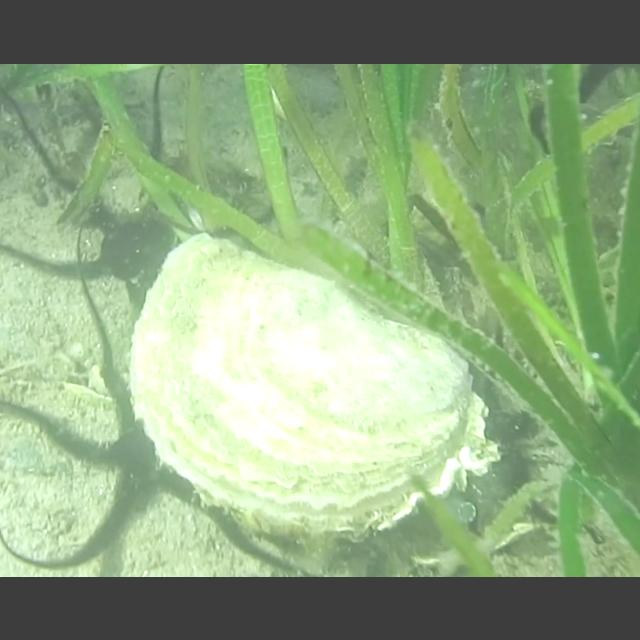Oyster-Open: (128, 227, 498, 533)
